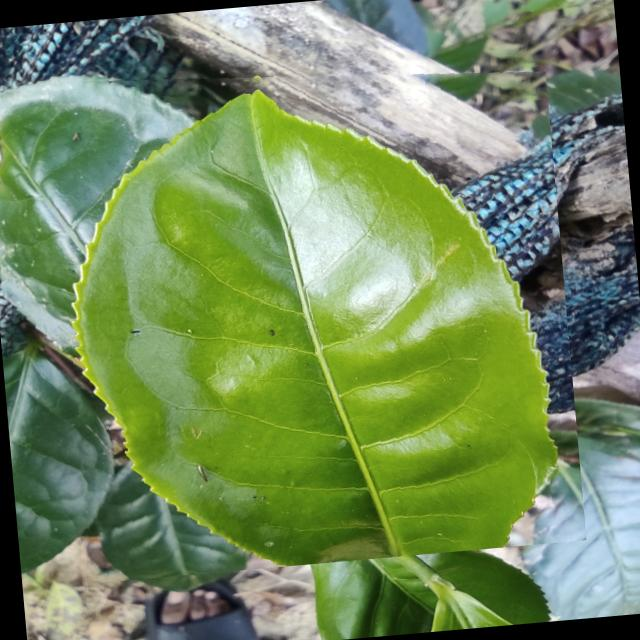Category D(7+ days, Not for Tea): (40, 36, 586, 582)
